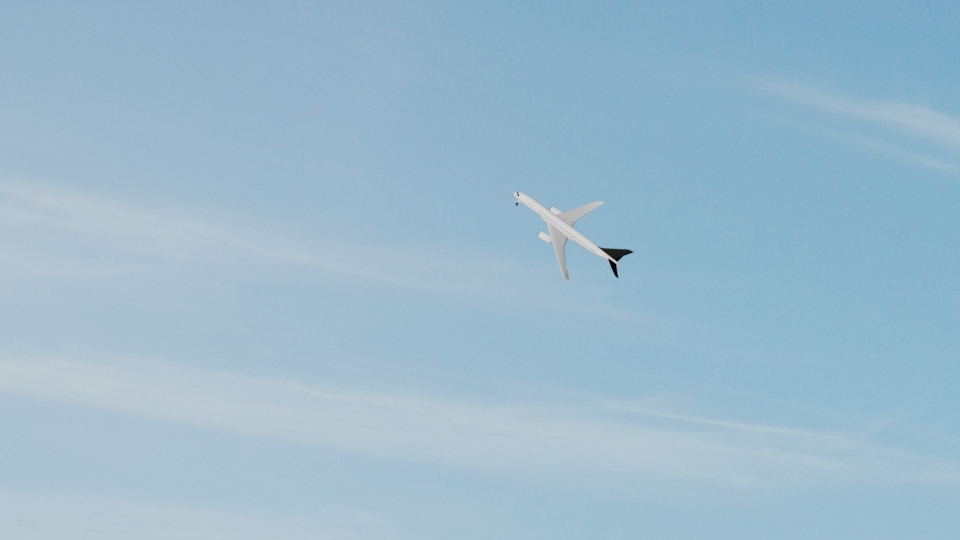plane: (510, 185, 633, 279)
